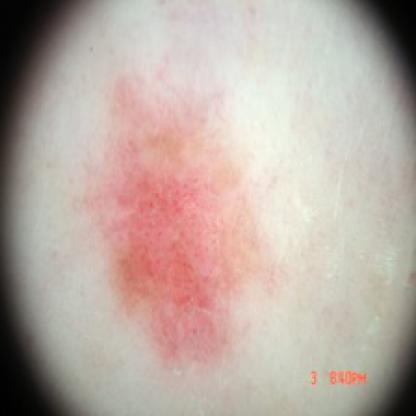malignant: (100, 86, 216, 320)
